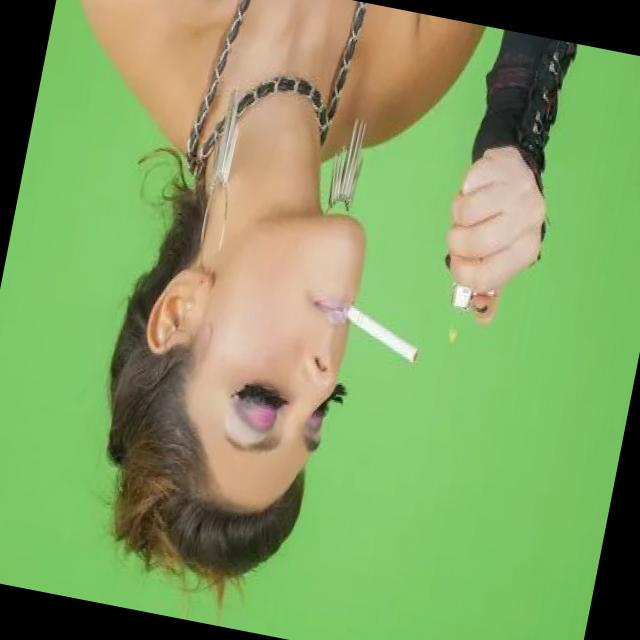smoke: (332, 296, 427, 371)
